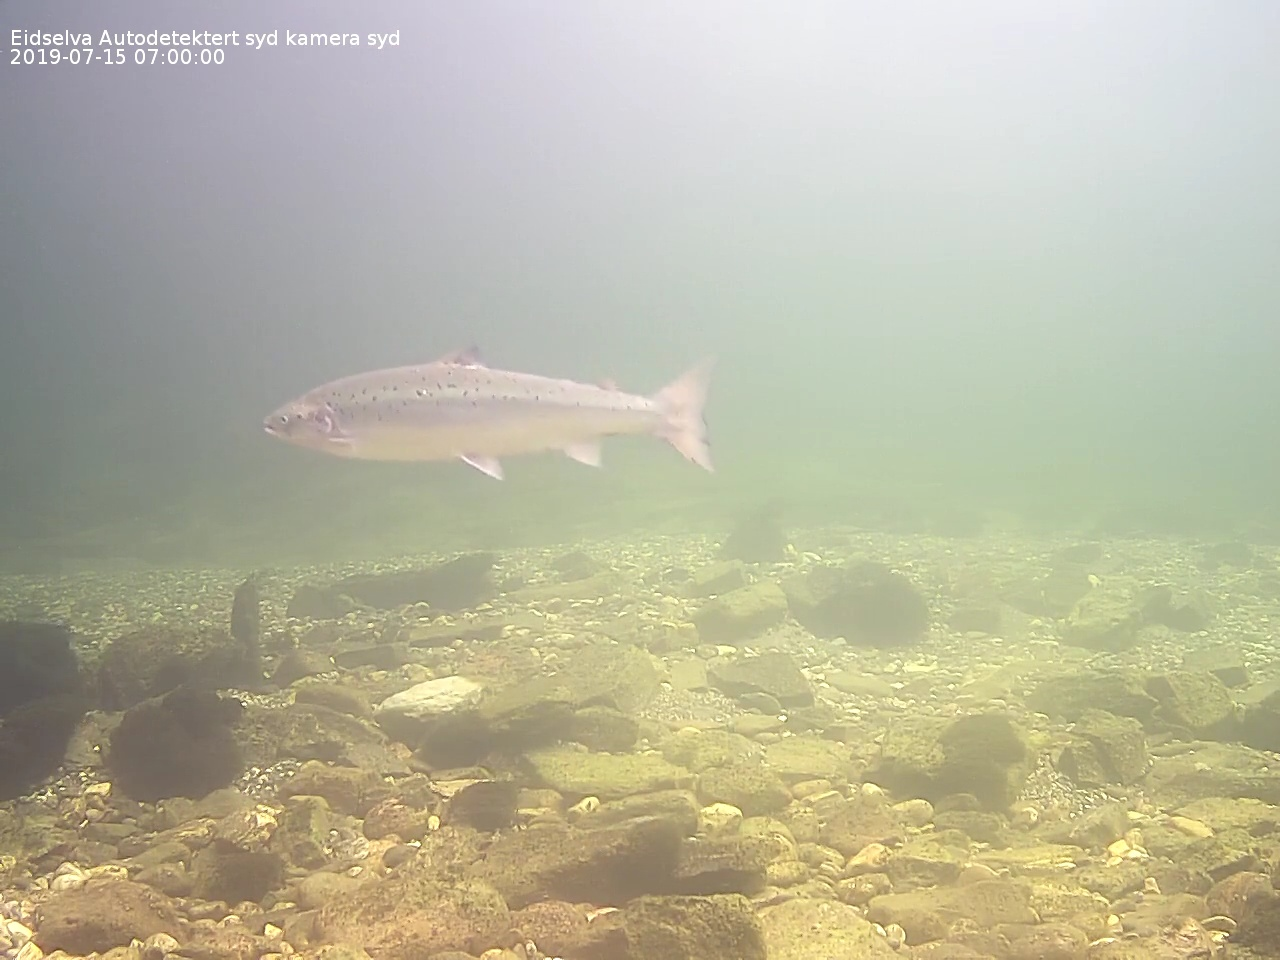salmon: (257, 332, 723, 493)
